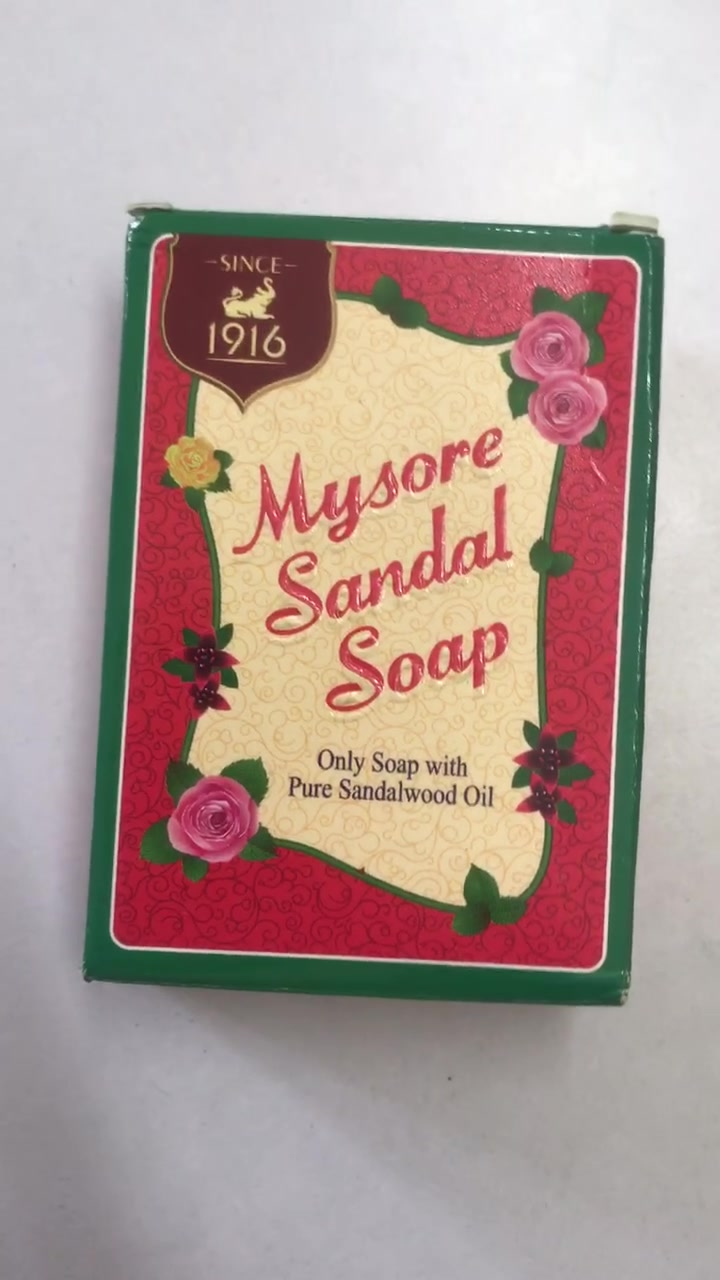mysore sandal soap: (95, 214, 652, 1000)
